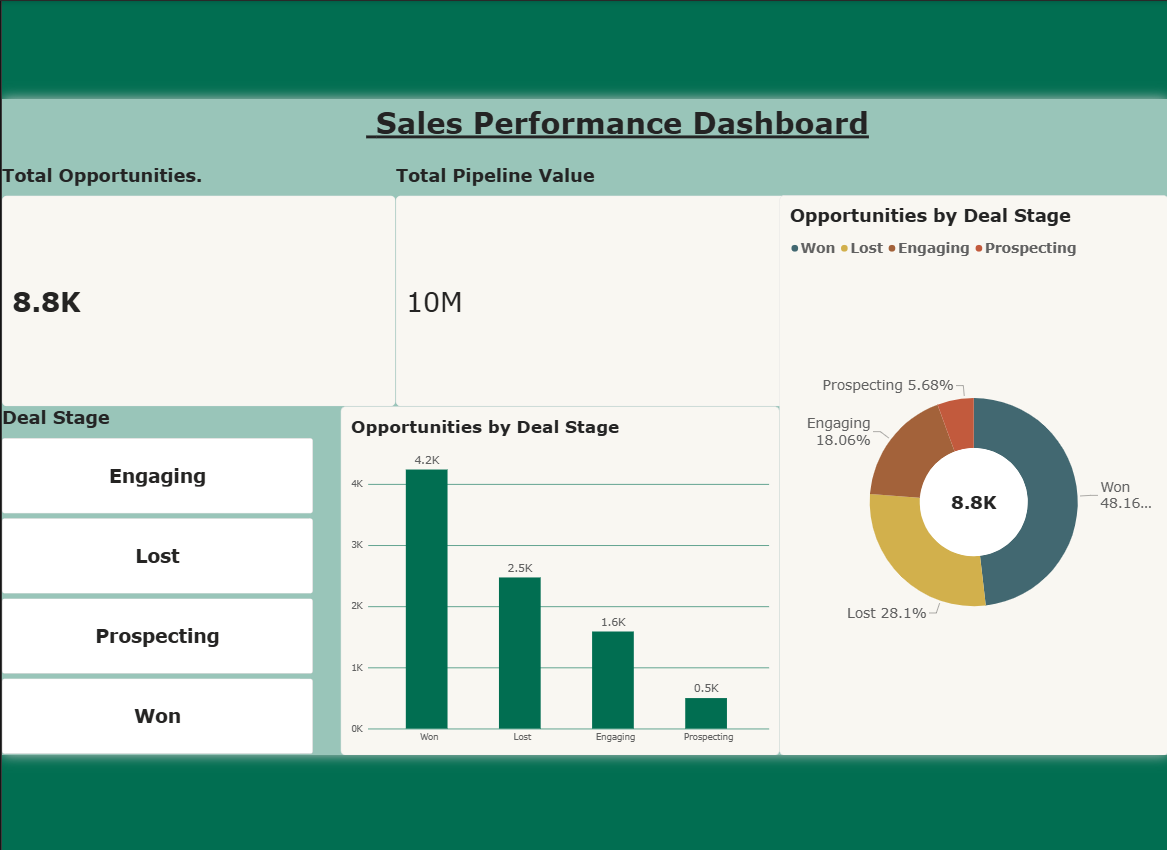

The page's visual inventory and layout, read from the dashboard file:
{"tool":"powerbi","page":{"name":"Sales Overview","canvas":[1920,1080],"ordinal":0},"visuals":[{"type":"cardVisual","title":"Total Opportunities.","fields":{"Data":["CountNonNull(sales_pipeline_cleaned.opportunity_id)"]},"box":[0,107,648.4,399.3],"z":0},{"type":"cardVisual","title":"Total Pipeline Value","fields":{"Data":["Sum(sales_pipeline_cleaned.close_value)"]},"box":[648.4,107,646.3,399.3],"z":1000},{"type":"advancedSlicerVisual","title":"Deal Stage","fields":{"Values":["sales_pipeline_cleaned.deal_stage"]},"box":[0,506.3,512.5,574.3],"z":2000},{"type":"clusteredColumnChart","title":"Opportunities by Deal Stage","fields":{"Category":["sales_pipeline_cleaned.deal_stage"],"Y":["CountNonNull(sales_pipeline_cleaned.opportunity_id)"]},"box":[557.8,506.3,722.5,574.3],"z":3000},{"type":"donutChart","title":"Opportunities by Deal Stage","fields":{"Category":["sales_pipeline_cleaned.deal_stage"],"Y":["CountNonNull(sales_pipeline_cleaned.opportunity_id)"]},"box":[1280.3,158.5,640.1,922.1],"z":4000},{"type":"textbox","box":[0,0,1920.4,107],"z":5000}]}

Visuals, with their boxes on the page's 1920x1080 design canvas (x1, y1, x2, y2). These are canvas units, not pixel positions in the 1167x850 screenshot, which may show the page scaled, cropped or inside an application window:
"Total Opportunities." cardVisual: x1=0, y1=107, x2=648, y2=506
"Total Pipeline Value" cardVisual: x1=648, y1=107, x2=1295, y2=506
"Deal Stage" advancedSlicerVisual: x1=0, y1=506, x2=512, y2=1081
"Opportunities by Deal Stage" clusteredColumnChart: x1=558, y1=506, x2=1280, y2=1081
"Opportunities by Deal Stage" donutChart: x1=1280, y1=158, x2=1920, y2=1081
textbox: x1=0, y1=0, x2=1920, y2=107
